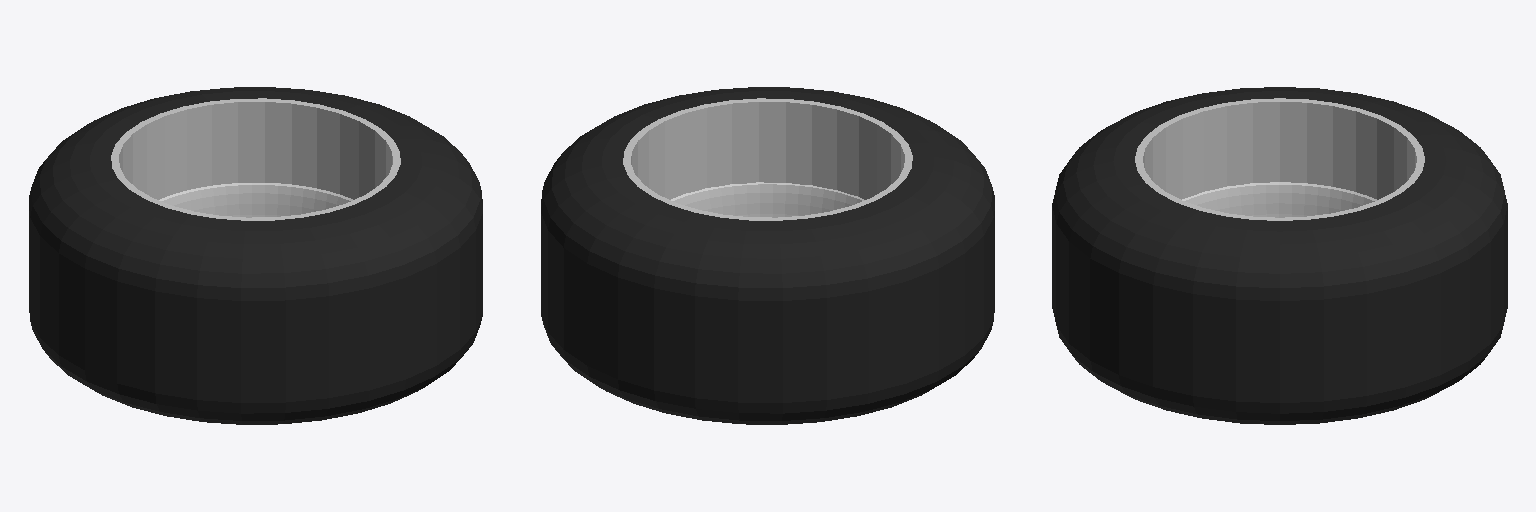
Rendered from wheel.obj.
The picture shows the model from 3 angles: view 1: azimuth 30°, elevation 25°; view 2: azimuth 150°, elevation 25°; view 3: azimuth 270°, elevation 25°; orthographic projection.
Visible parts, largest first — view 1: Cube.059; view 2: Cube.059; view 3: Cube.059.
Boxes of the visible parts, box(x1,y1,x2,y2) form: Cube.059: box(29, 87, 482, 424); Cube.059: box(541, 87, 994, 424); Cube.059: box(1052, 87, 1507, 424).
Size of the model in its own units: 0.5077 by 0.2368 by 0.5077.